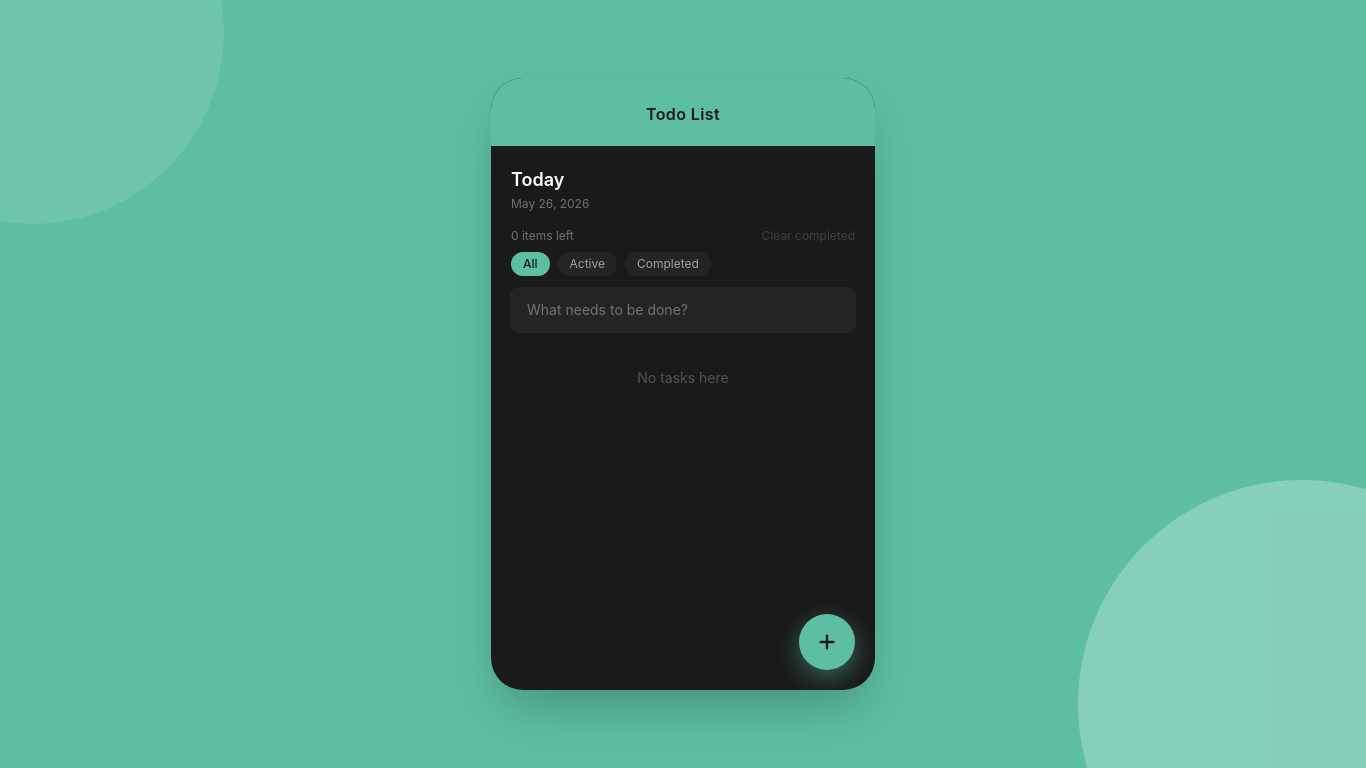
filters tasks by active, completed, all
Type "A" into the field with placeholder "What needs to be done?" at coordinates (683, 310), box top-left (527, 300), bottom-right (839, 320)
Then press Enter
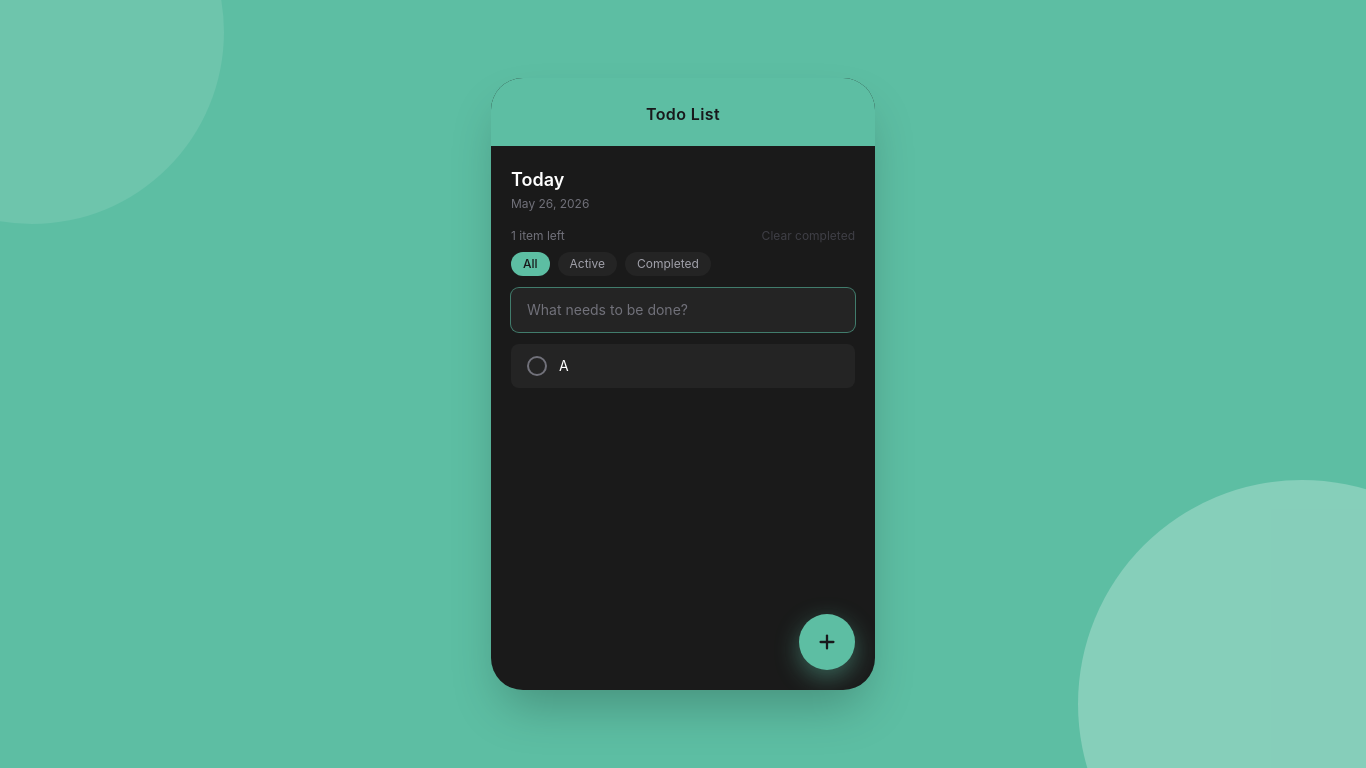
Type "B" into the field with placeholder "What needs to be done?" at coordinates (683, 310), box top-left (527, 300), bottom-right (839, 320)
Then press Enter
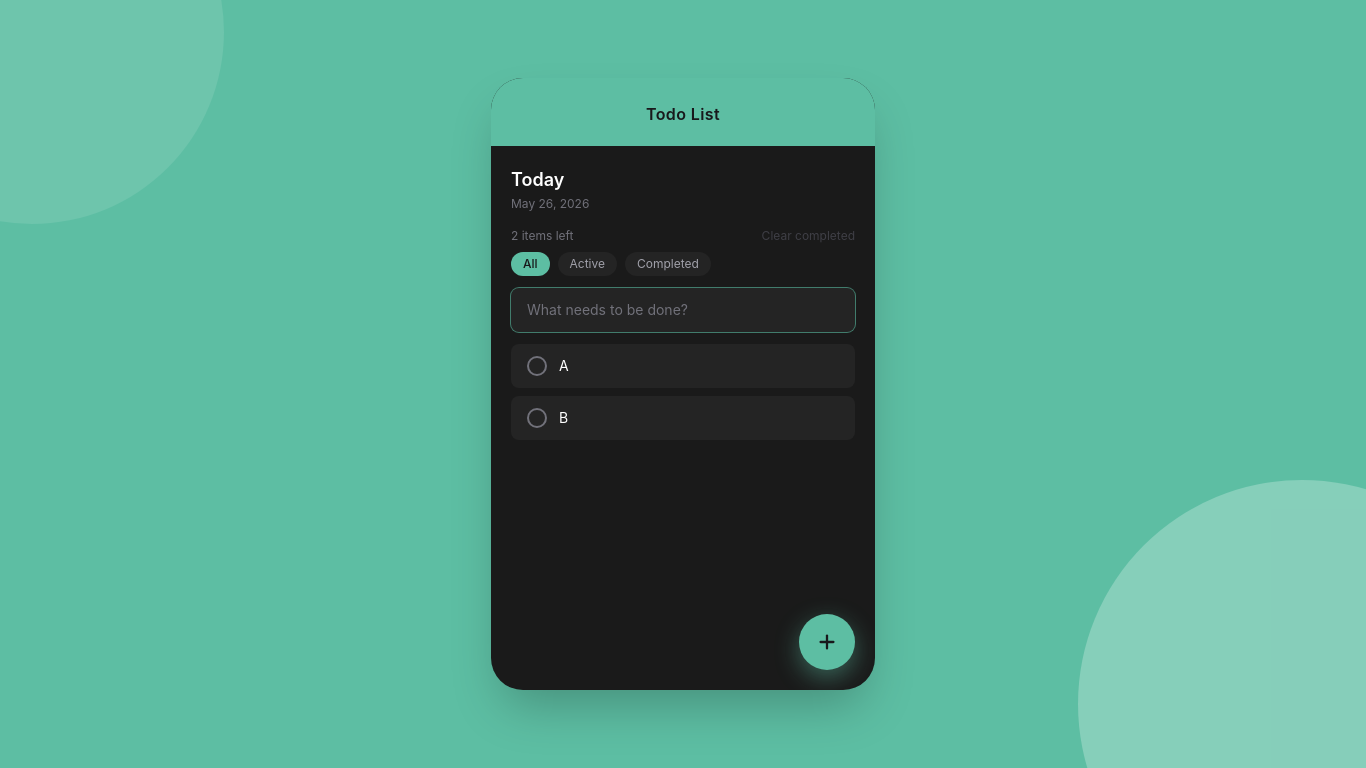
Click the 1st checkbox at coordinates (537, 366), box top-left (527, 356), bottom-right (547, 376)
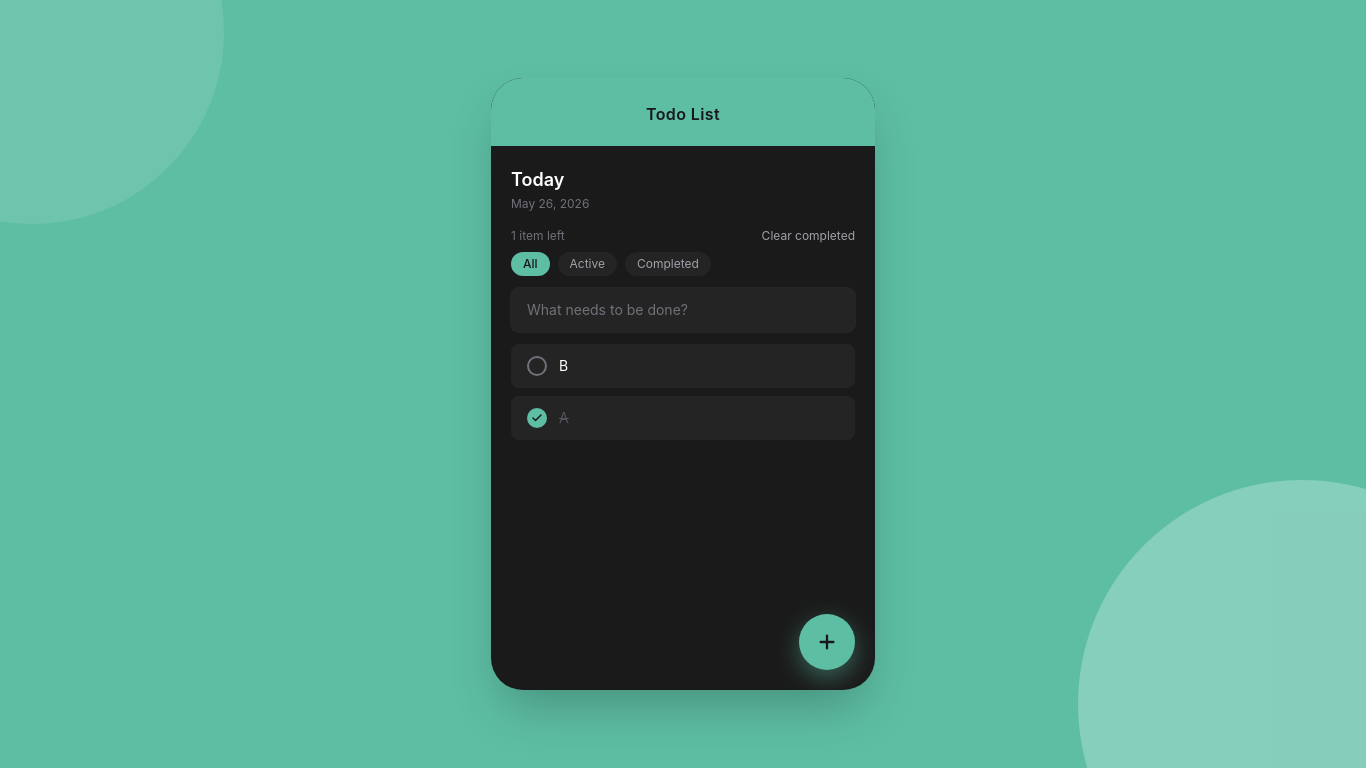
Expected: the number of list items is 2, top-left (511, 344), bottom-right (855, 388); top-left (511, 396), bottom-right (855, 440)
Click the button "active" at coordinates (587, 264), box top-left (558, 252), bottom-right (617, 276)
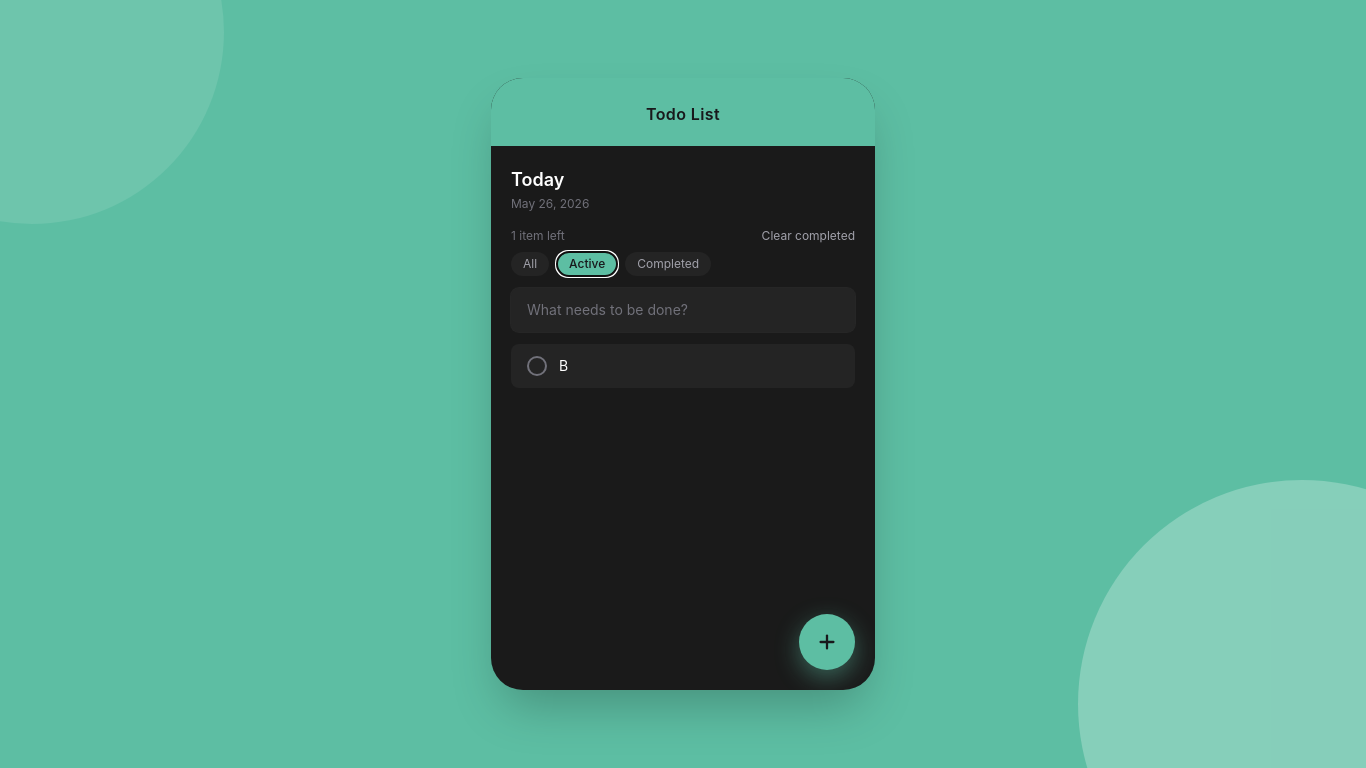
Expected: the text "B" is shown, top-left (559, 357), bottom-right (568, 374)
Expected: the number of list items is 1, top-left (511, 344), bottom-right (855, 388)
Click the button "completed" at coordinates (668, 264), box top-left (625, 252), bottom-right (711, 276)
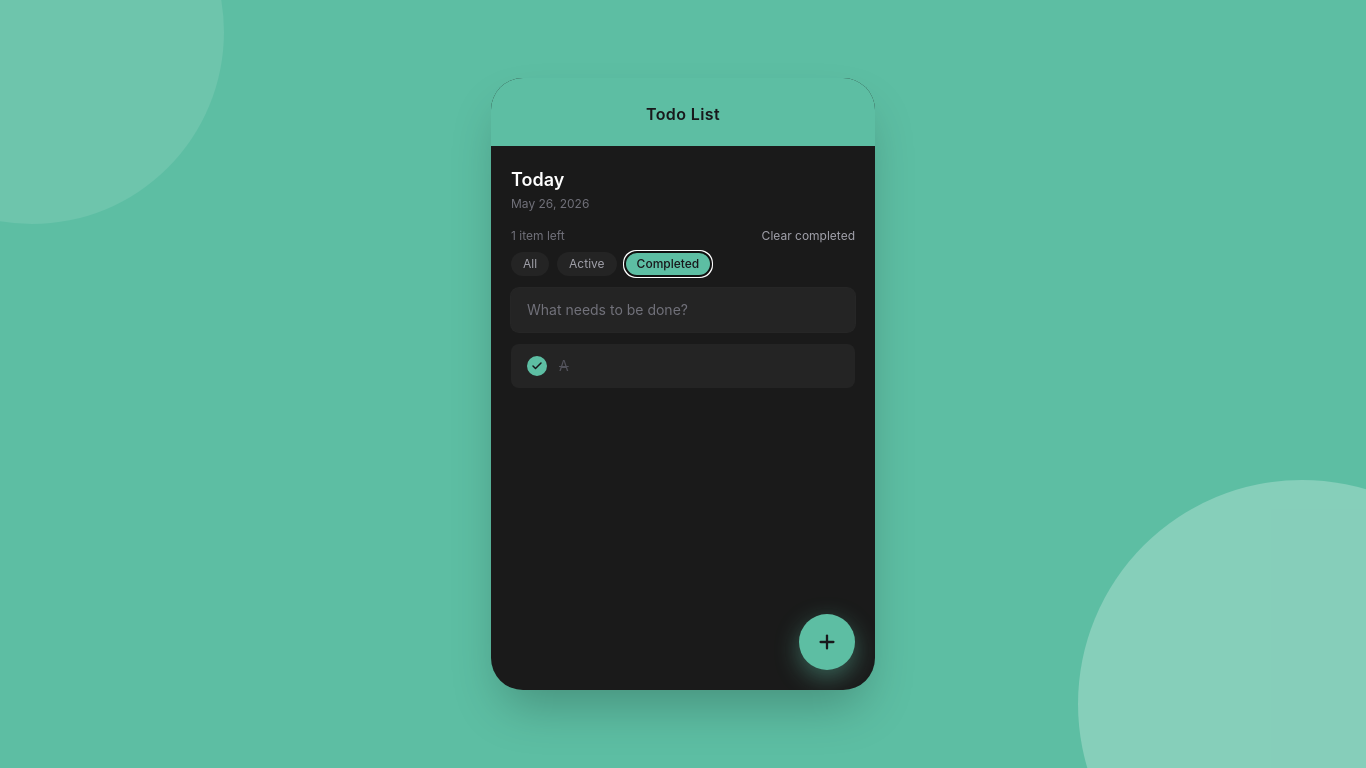
Expected: the text "A" is shown, top-left (559, 357), bottom-right (569, 374)
Expected: the number of list items is 1, top-left (511, 344), bottom-right (855, 388)
Click the button "all" at coordinates (530, 264), box top-left (511, 252), bottom-right (549, 276)
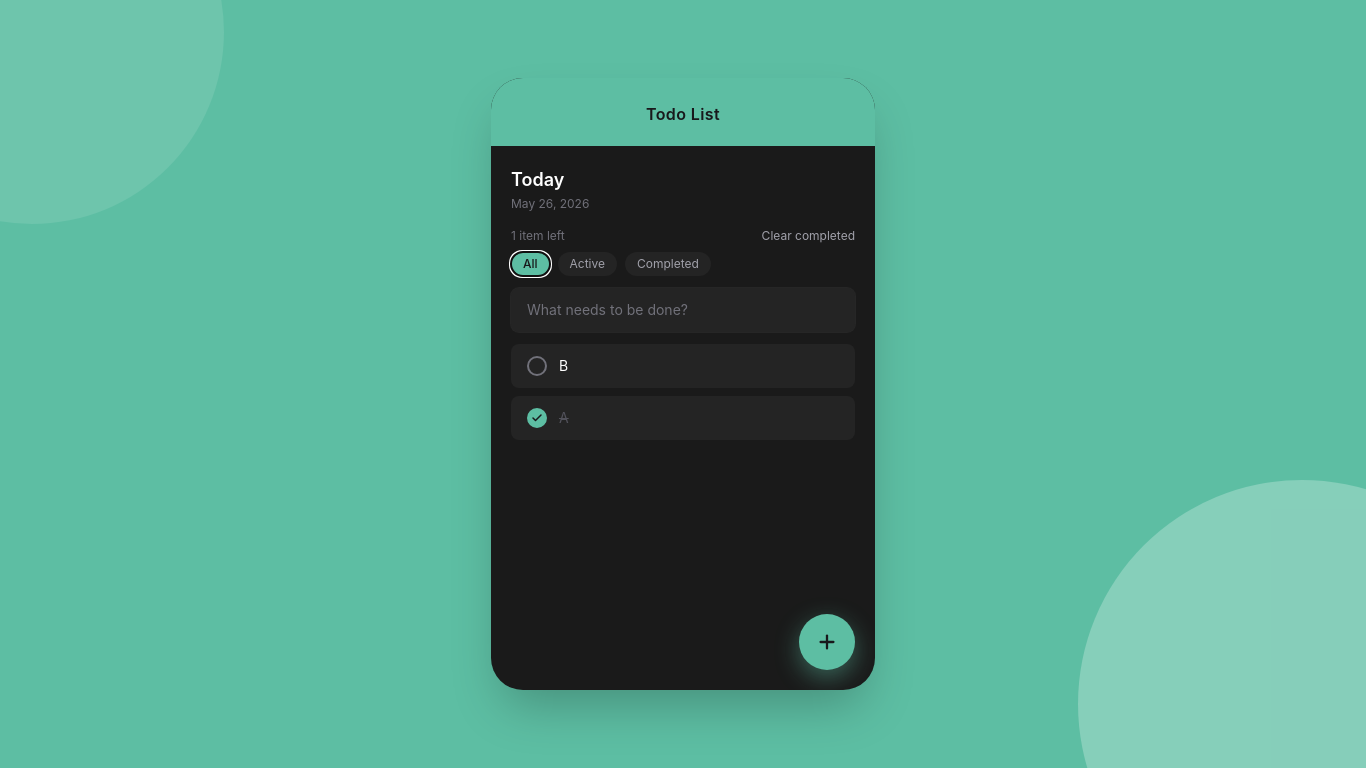
Expected: the number of list items is 2, top-left (511, 344), bottom-right (855, 388); top-left (511, 396), bottom-right (855, 440)
